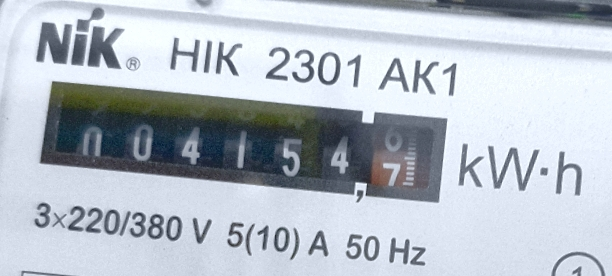0: (129, 119, 156, 163), (79, 120, 105, 156)
1: (233, 127, 250, 170)
4: (178, 122, 205, 166), (327, 130, 352, 175)
5: (277, 131, 306, 178)
6: (381, 121, 407, 153)
7: (378, 157, 402, 188)
screen: (23, 59, 466, 220)
